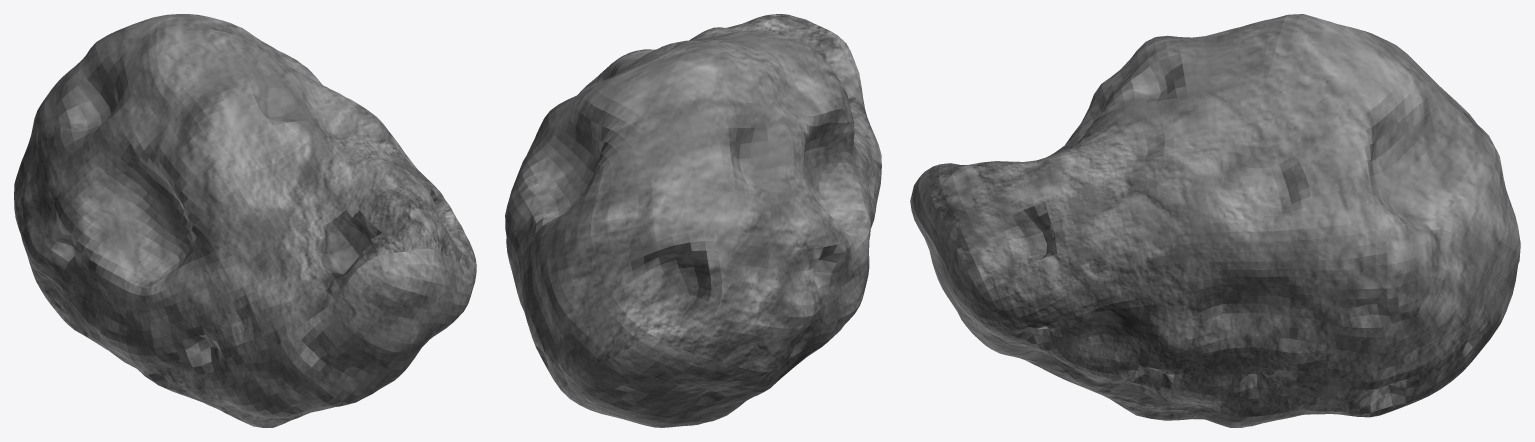
File: Rock.obj
The picture shows the model from 3 angles, left to right: view 1: azimuth 30°, elevation 25°; view 2: azimuth 150°, elevation 25°; view 3: azimuth 270°, elevation 25°; orthographic projection. The views are drawn at different scales.
Visible parts, largest first — view 1: Rock:Group1; view 2: Rock:Group1; view 3: Rock:Group1.
Part boxes in pixels (x1,y1,x2,y2): Rock:Group1: [14, 14, 476, 427]; Rock:Group1: [505, 14, 881, 427]; Rock:Group1: [910, 14, 1520, 427].
Bounding box in the file's own units: 1.94 × 2.22 × 3.19.
1 material, 1 textured.
